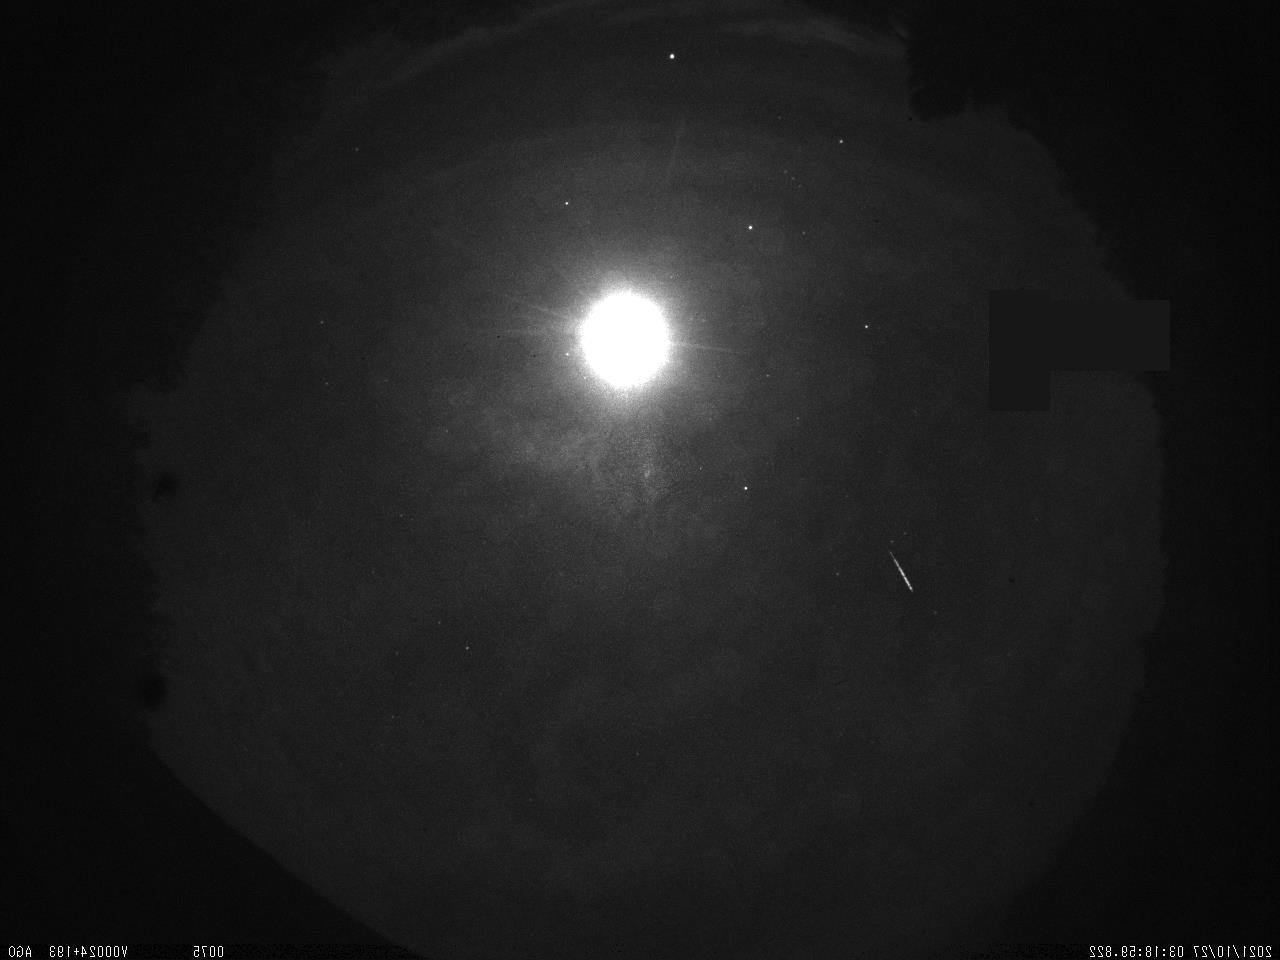meteor: (880, 527, 919, 599)
